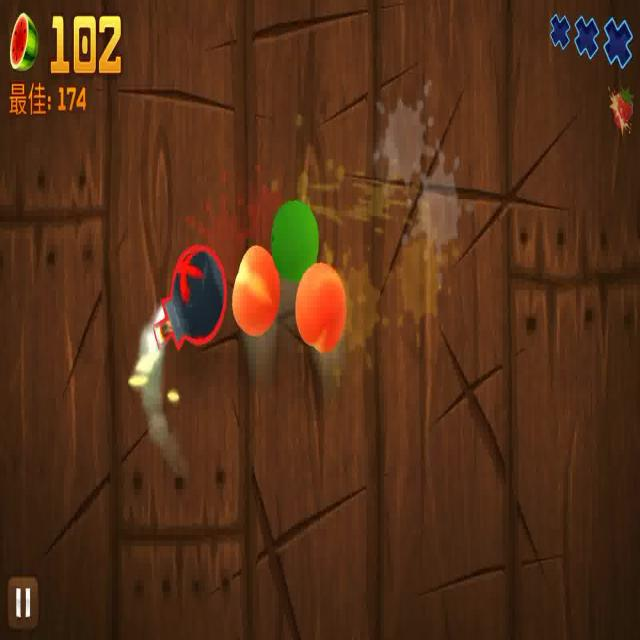bomb: (138, 242, 228, 402)
fruit: (296, 266, 348, 354), (233, 242, 280, 334), (272, 197, 321, 284)
